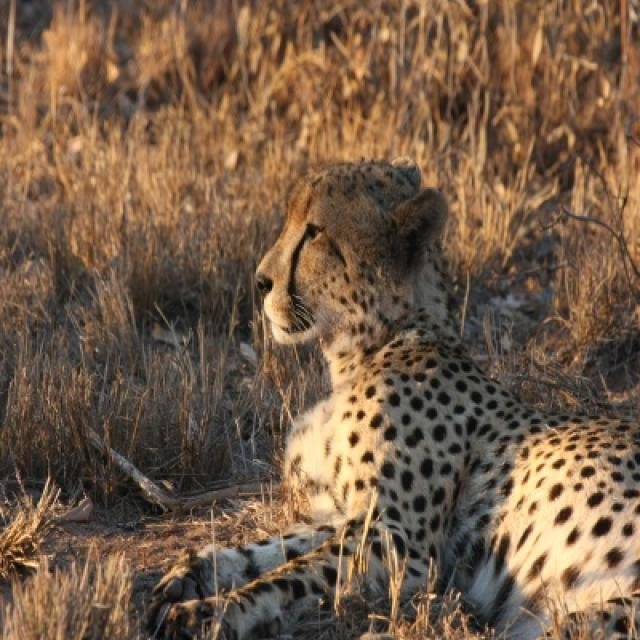Cheetah: (152, 162, 638, 638)
